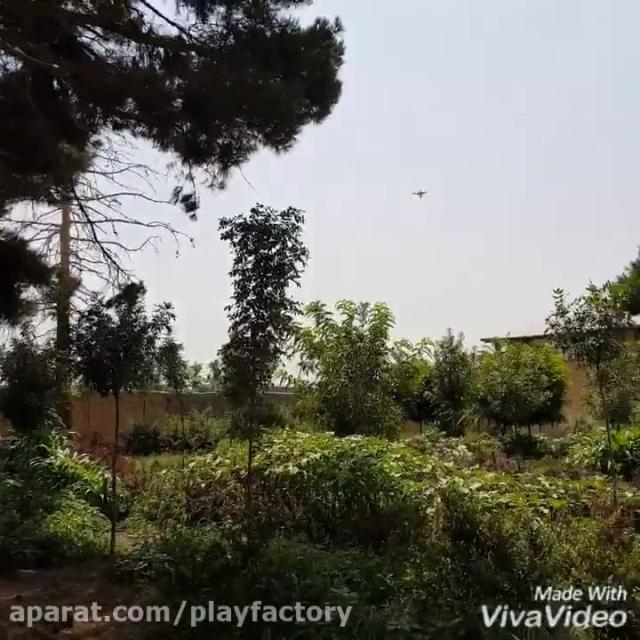drone: (409, 182, 430, 200)
